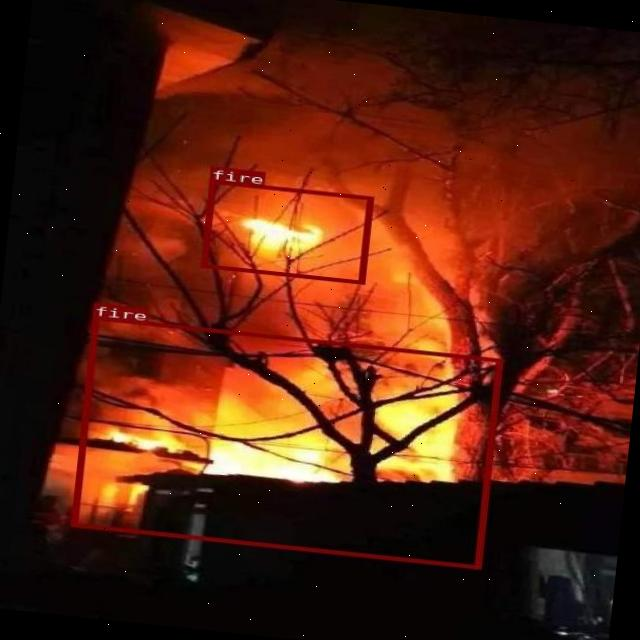fire: (70, 315, 500, 568), (199, 178, 372, 284)
